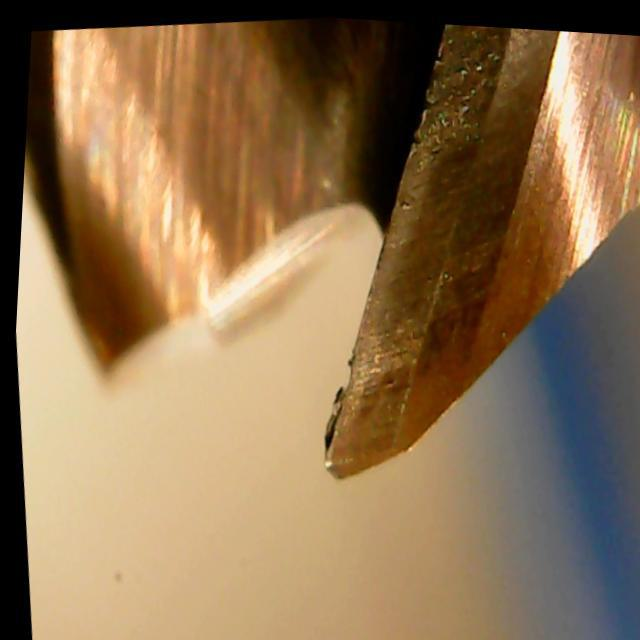Tool-wear-class-1: (262, 251, 487, 492)
